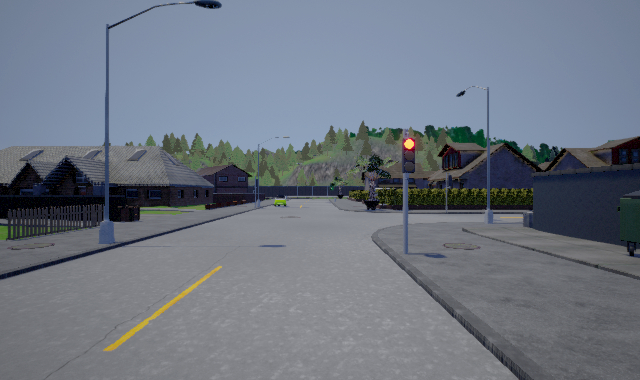traffic_light: (402, 136, 416, 173)
vehicle: (273, 195, 288, 206)
